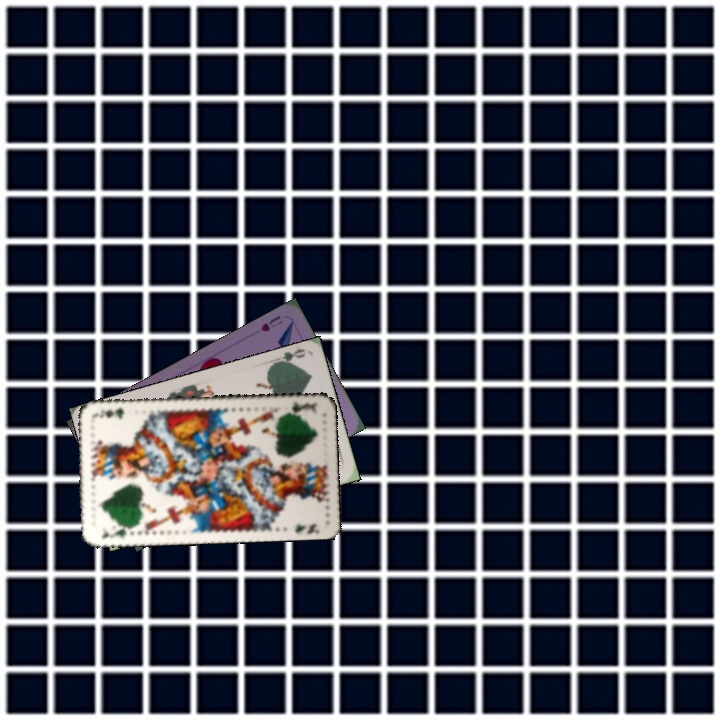GK: (98, 522, 135, 542), (281, 397, 319, 415)
GO: (267, 345, 308, 368)
HU: (257, 312, 286, 335)
